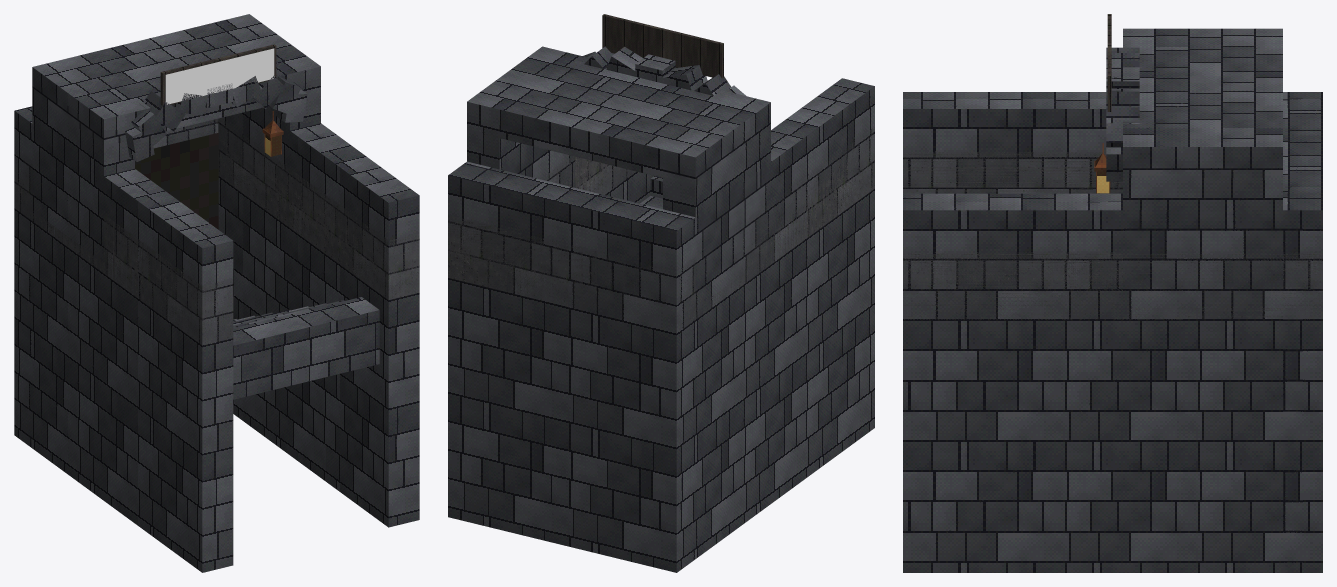
Rendered from bajada_alto.obj.
3 renders of one model, left to right at view 1: azimuth 30°, elevation 25°; view 2: azimuth 150°, elevation 25°; view 3: azimuth 270°, elevation 25°, orthographic. The views are drawn at different scales.
Visible parts, largest first — view 1: bajada_alto; view 2: bajada_alto; view 3: bajada_alto.
Boxes of the visible parts, box(x1,y1,x2,y2) form: bajada_alto: box(14, 14, 419, 572); bajada_alto: box(448, 14, 874, 572); bajada_alto: box(903, 14, 1322, 572).
Size of the model in its own units: 4.2 by 7.76 by 6.3.
7 materials, 6 textured.
